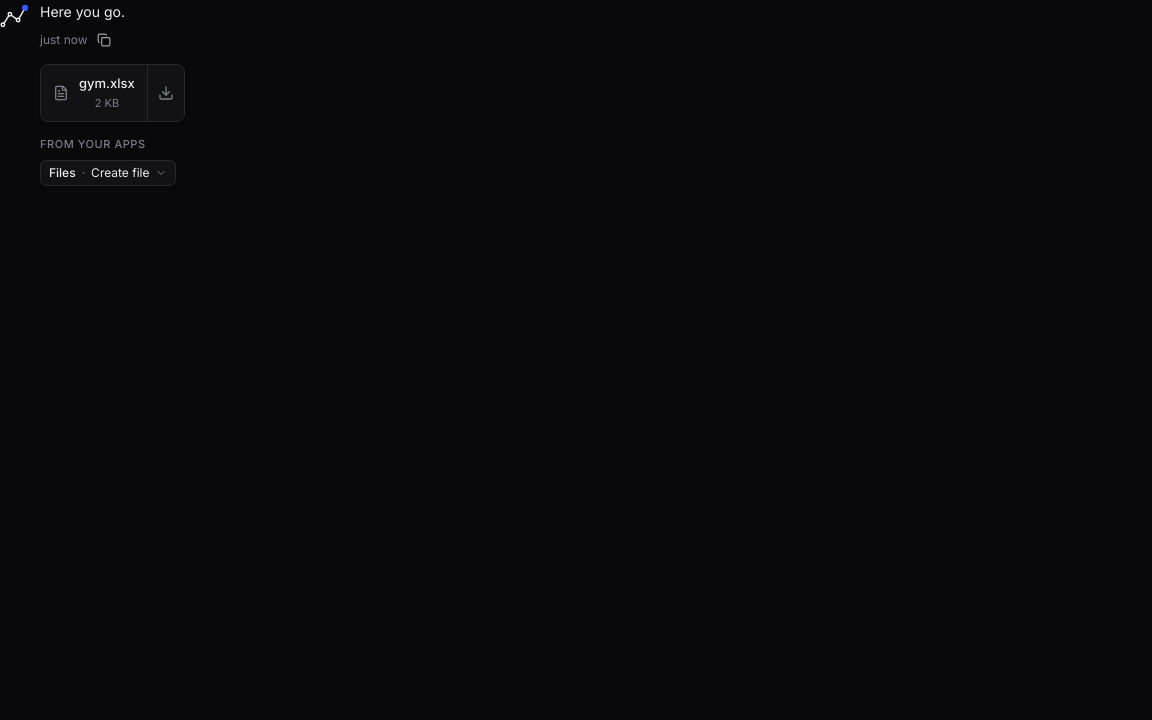
Scenario: a file the reply made opens in a preview, and can still be downloaded
Check: the link named "Download gym.xlsx" is shown, box [147,65,184,121]
Click the button named "Preview gym.xlsx".
click(94, 93)  # box [41,65,147,121]
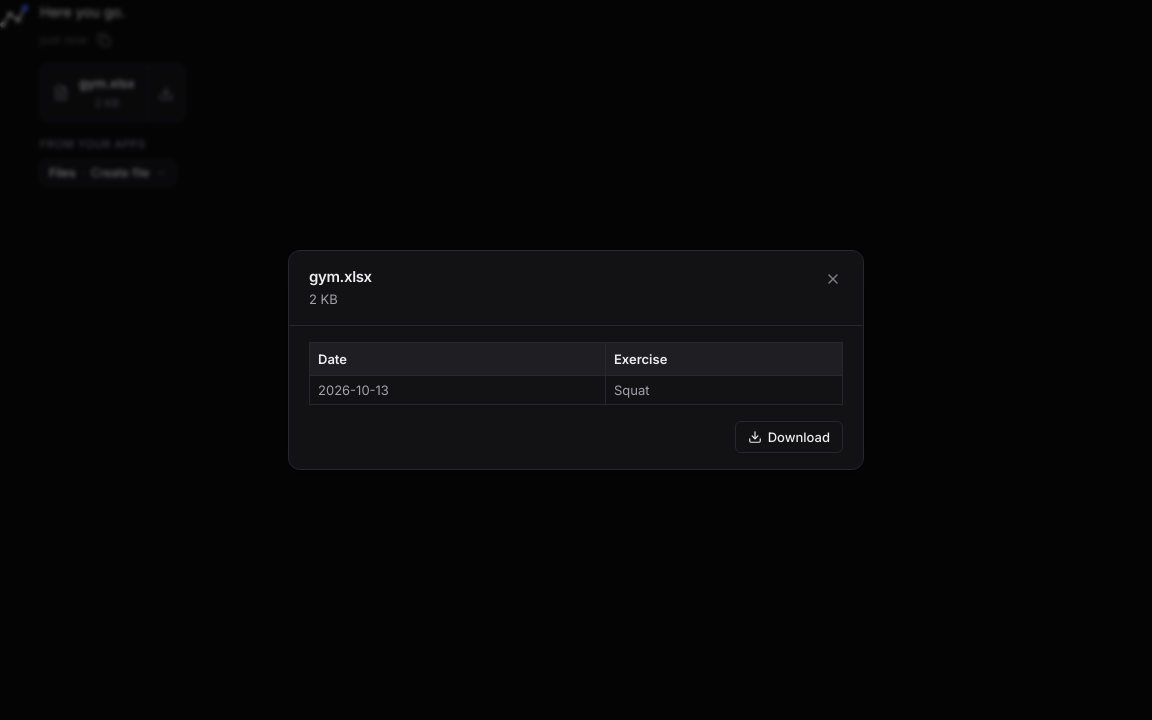
Check: the cell "Squat" is shown, box [606,376,842,404]
Check: the column heading "Exercise" is shown, box [606,342,842,376]
